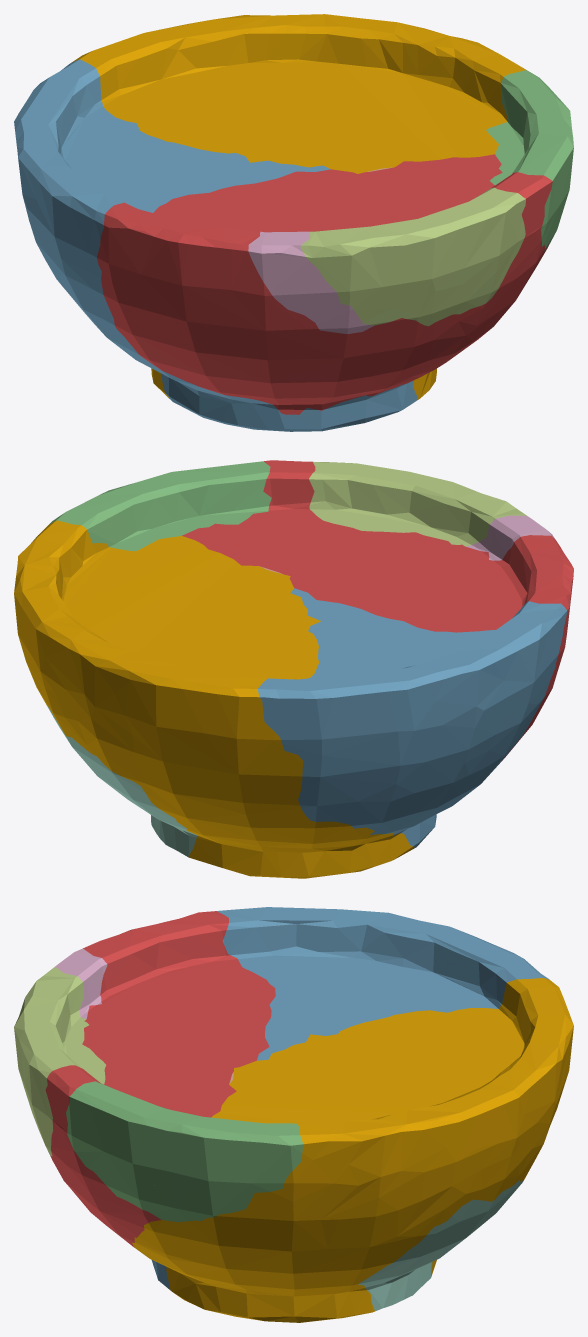
The model's file is mode_11_8pcs.glb.
3 renders of one model, top to bottom at view 1: azimuth 30°, elevation 25°; view 2: azimuth 150°, elevation 25°; view 3: azimuth 270°, elevation 25°, orthographic.
Visible parts, largest first — view 1: piece_1.obj, piece_0.obj, piece_2.obj, piece_5.obj, piece_3.obj, piece_6.obj; view 2: piece_0.obj, piece_2.obj, piece_1.obj, piece_5.obj, piece_3.obj, piece_4.obj, piece_6.obj; view 3: piece_0.obj, piece_1.obj, piece_2.obj, piece_3.obj, piece_5.obj, piece_4.obj, piece_6.obj.
Part boxes in pixels (x1,y1,x2,y2): piece_1.obj: [97, 154, 552, 414]; piece_0.obj: [72, 14, 527, 399]; piece_2.obj: [14, 59, 417, 431]; piece_5.obj: [300, 187, 525, 326]; piece_3.obj: [486, 70, 573, 252]; piece_6.obj: [248, 231, 373, 333]; piece_0.obj: [14, 520, 414, 878]; piece_2.obj: [257, 588, 567, 848]; piece_1.obj: [182, 460, 573, 761]; piece_5.obj: [309, 461, 526, 546]; piece_3.obj: [49, 461, 271, 551]; piece_4.obj: [47, 705, 197, 857]; piece_6.obj: [465, 515, 555, 560]; piece_0.obj: [132, 978, 573, 1322]; piece_1.obj: [45, 911, 275, 1247]; piece_2.obj: [151, 907, 549, 1289]; piece_3.obj: [66, 1081, 303, 1222]; piece_5.obj: [14, 967, 105, 1156]; piece_4.obj: [358, 1179, 523, 1311]; piece_6.obj: [55, 948, 107, 1018].
Size of the model in its own units: 1 by 0.4822 by 0.9999.
